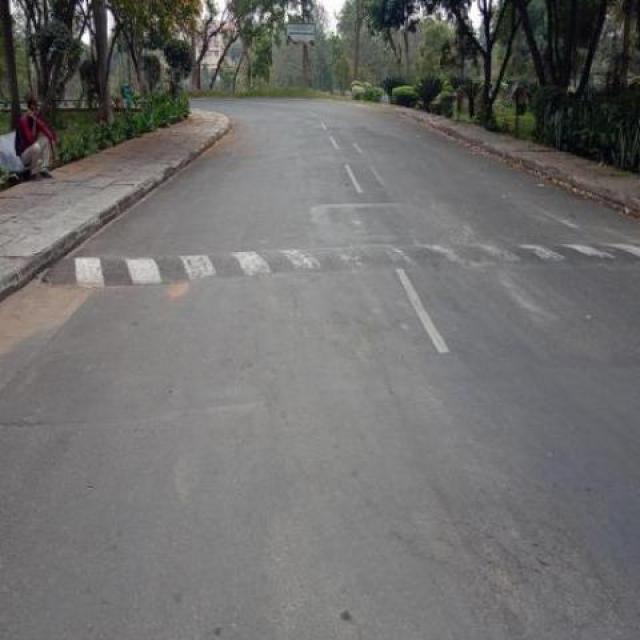Speed Bump: (36, 229, 639, 291)
